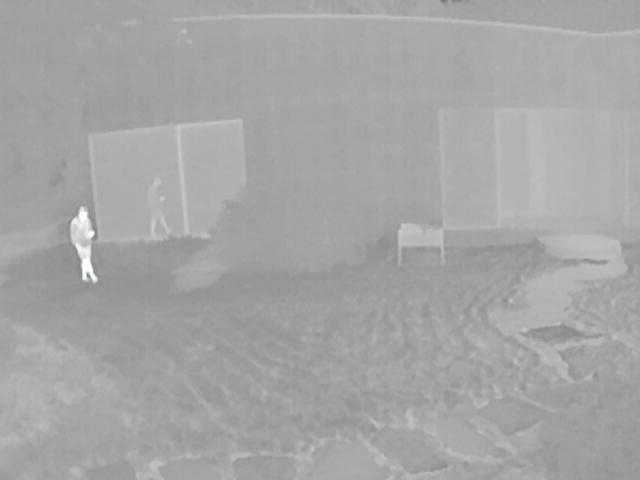person: (69, 207, 99, 284), (146, 174, 172, 239)
